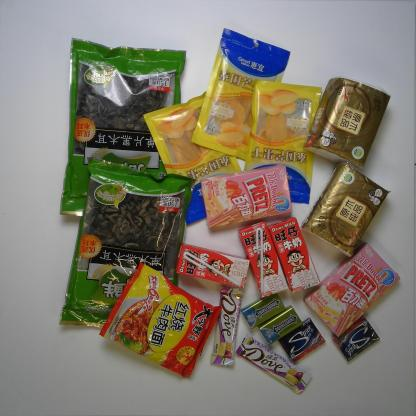Chocolate: (235, 332, 313, 396), (210, 286, 244, 366)
Dessert: (303, 241, 402, 338), (201, 164, 293, 228)
Dried Food: (58, 157, 198, 328), (58, 38, 187, 218)
Dried Fruit: (143, 91, 244, 226), (190, 27, 291, 161), (242, 78, 322, 205)
Gum: (331, 314, 380, 362), (277, 318, 325, 364), (258, 304, 302, 347), (240, 292, 287, 329)
Instant Noodles: (99, 262, 223, 378)
Milk: (267, 216, 320, 293), (238, 222, 289, 300), (175, 242, 250, 288)
Tissue: (300, 161, 391, 258), (302, 76, 391, 170)
